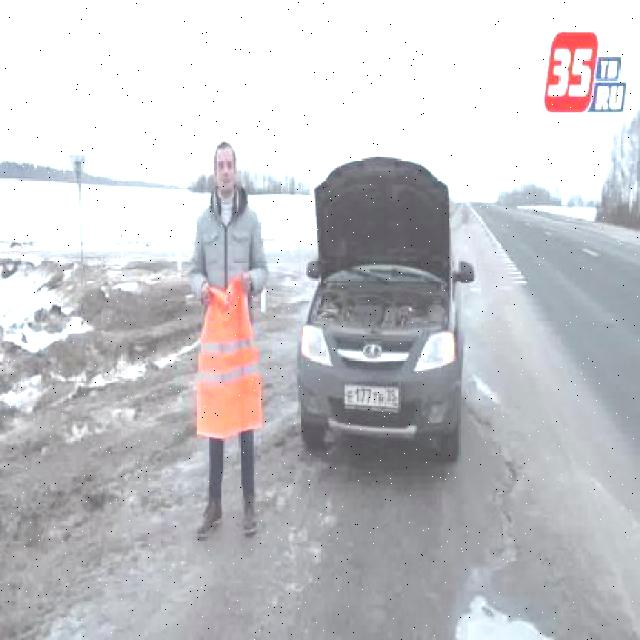Mask: (194, 272, 263, 440)
